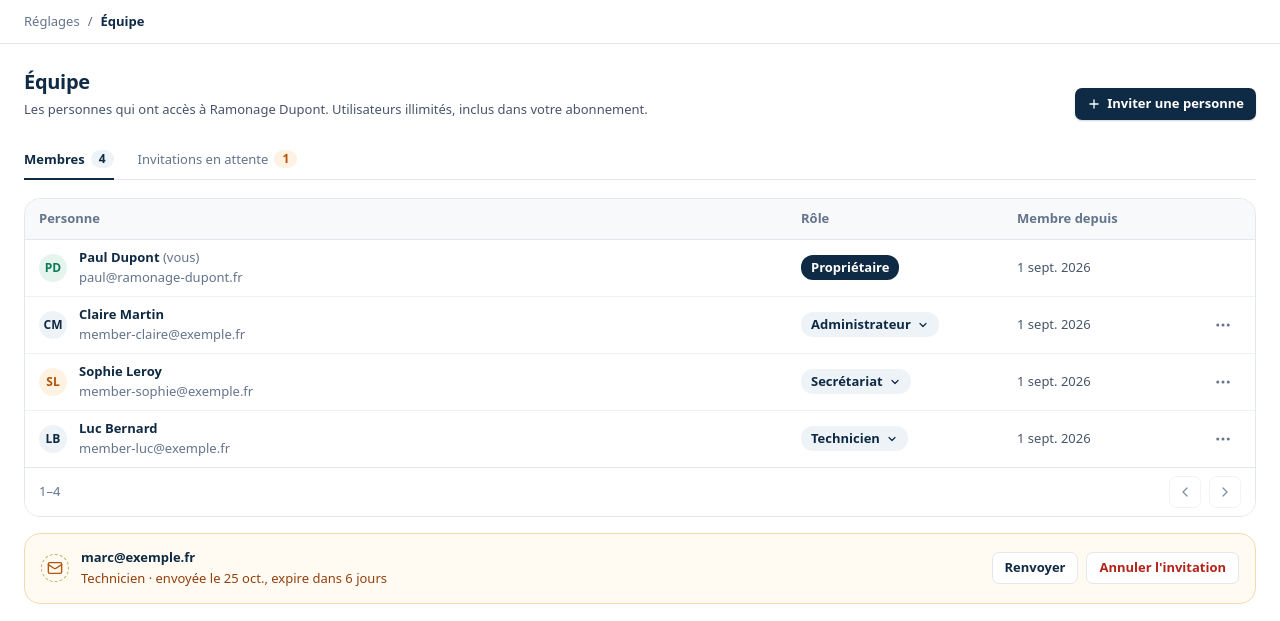
Test case: MemberRow role and invitation actions › a owner can give every role except owner
The width and height of the screenshot is (1280, 621).
Expected: the text "Luc Bernard" is shown, left=79, top=419, right=158, bottom=437
Expected: the text "(vous)" is shown, left=160, top=248, right=199, bottom=266
Step 1. Click the button "Technicien" → (854, 439), box left=801, top=426, right=908, bottom=451
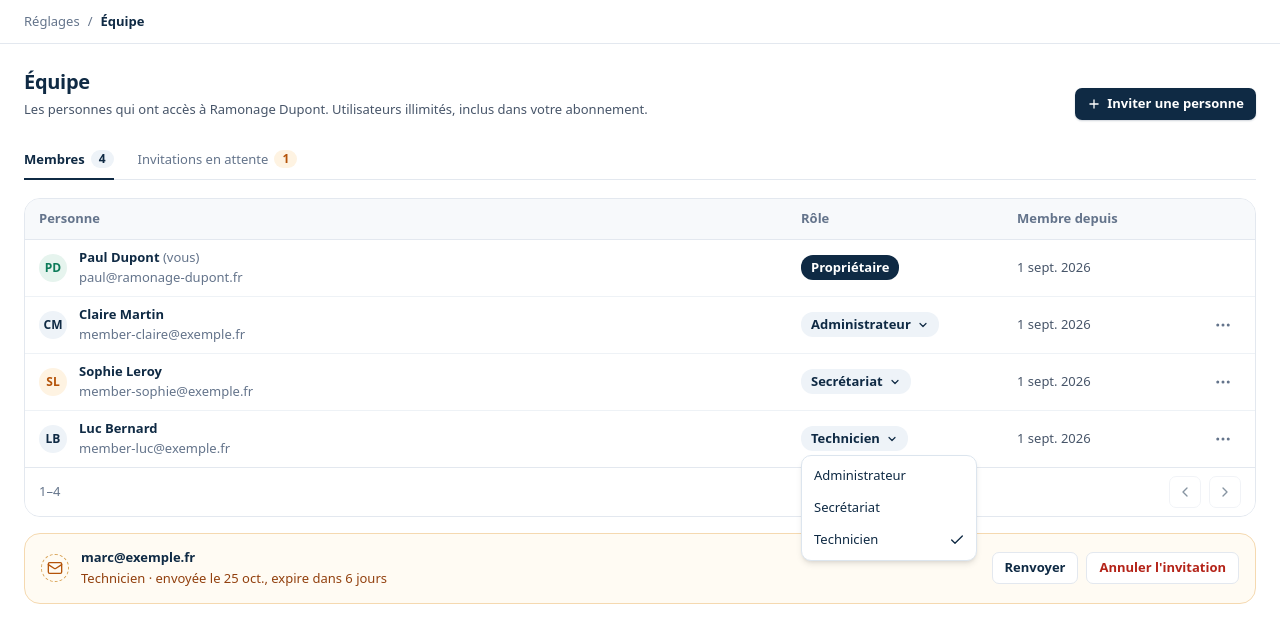
Result: the menu item "Technicien" is checked at left=814, top=530, right=965, bottom=548
